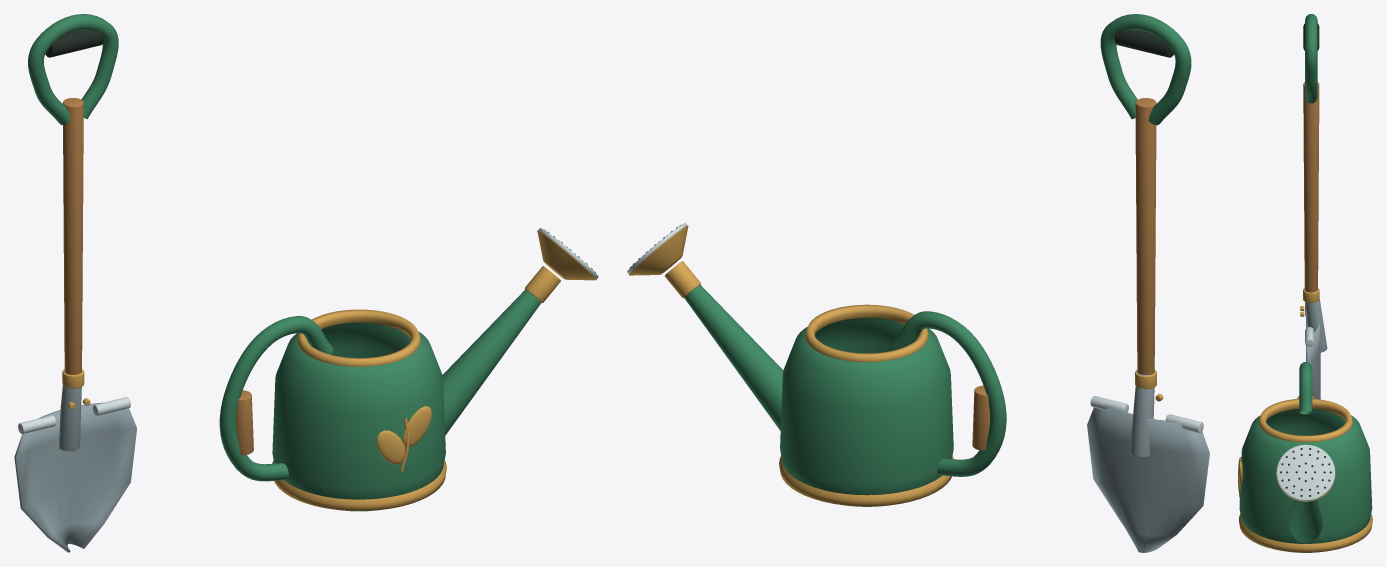
Rendered from GardenTools.glb.
The picture shows the model from 3 angles, left to right: view 1: azimuth 30°, elevation 25°; view 2: azimuth 150°, elevation 25°; view 3: azimuth 270°, elevation 25°; orthographic projection. The views are drawn at different scales.
Parts seen in each view (by area): view 1: SM_GM_WateringCan, SM_GM_Shovel; view 2: SM_GM_WateringCan, SM_GM_Shovel; view 3: SM_GM_WateringCan, SM_GM_Shovel.
Boxes of the visible parts, <box> form: SM_GM_WateringCan: <box>219,228,598,511</box>; SM_GM_Shovel: <box>14,14,136,552</box>; SM_GM_WateringCan: <box>627,223,1006,506</box>; SM_GM_Shovel: <box>1087,14,1209,552</box>; SM_GM_WateringCan: <box>1238,362,1372,552</box>; SM_GM_Shovel: <box>1300,14,1327,399</box>.
Bounding box in the file's own units: 1.39 × 1.23 × 0.368.
